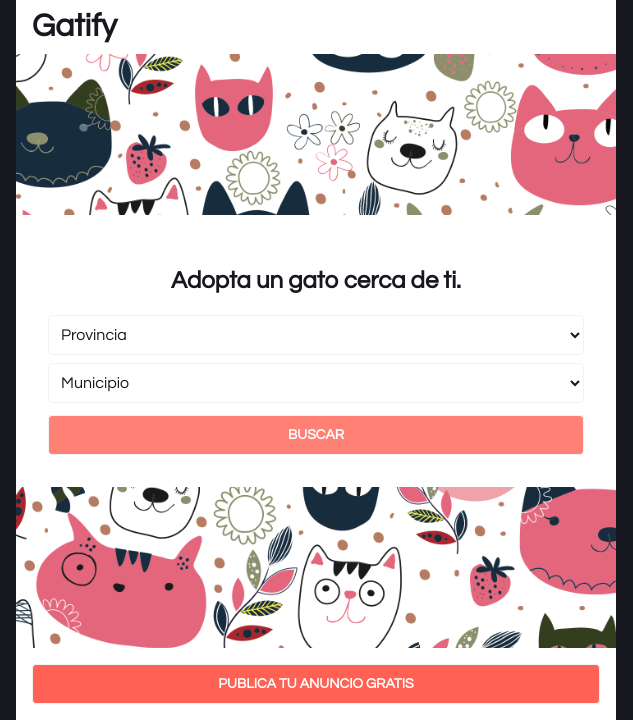
it: <IndexRoute/> › should enable the search button when a province is selected
Select "Barcelona" in the 1st dropdown showing "Provincia": (316, 335) [48,315,584,355]
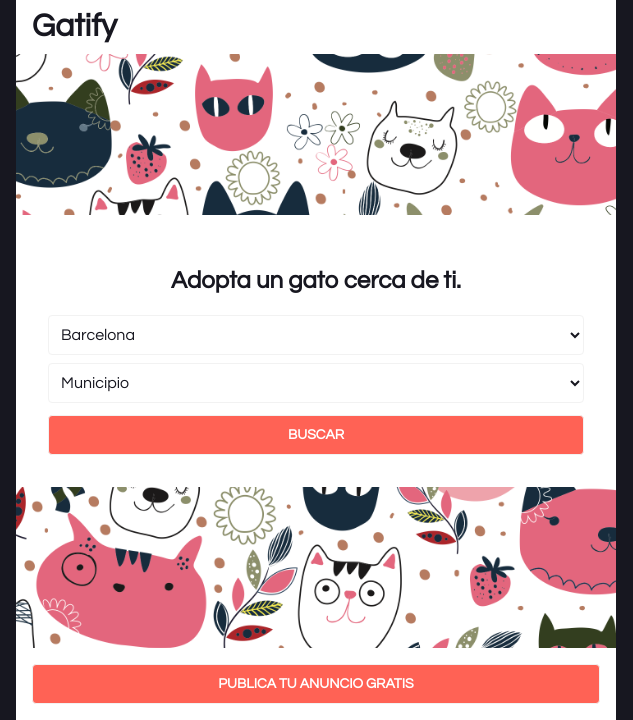
Result: the button with test id "btn-search" is enabled at [48,415,584,455]
